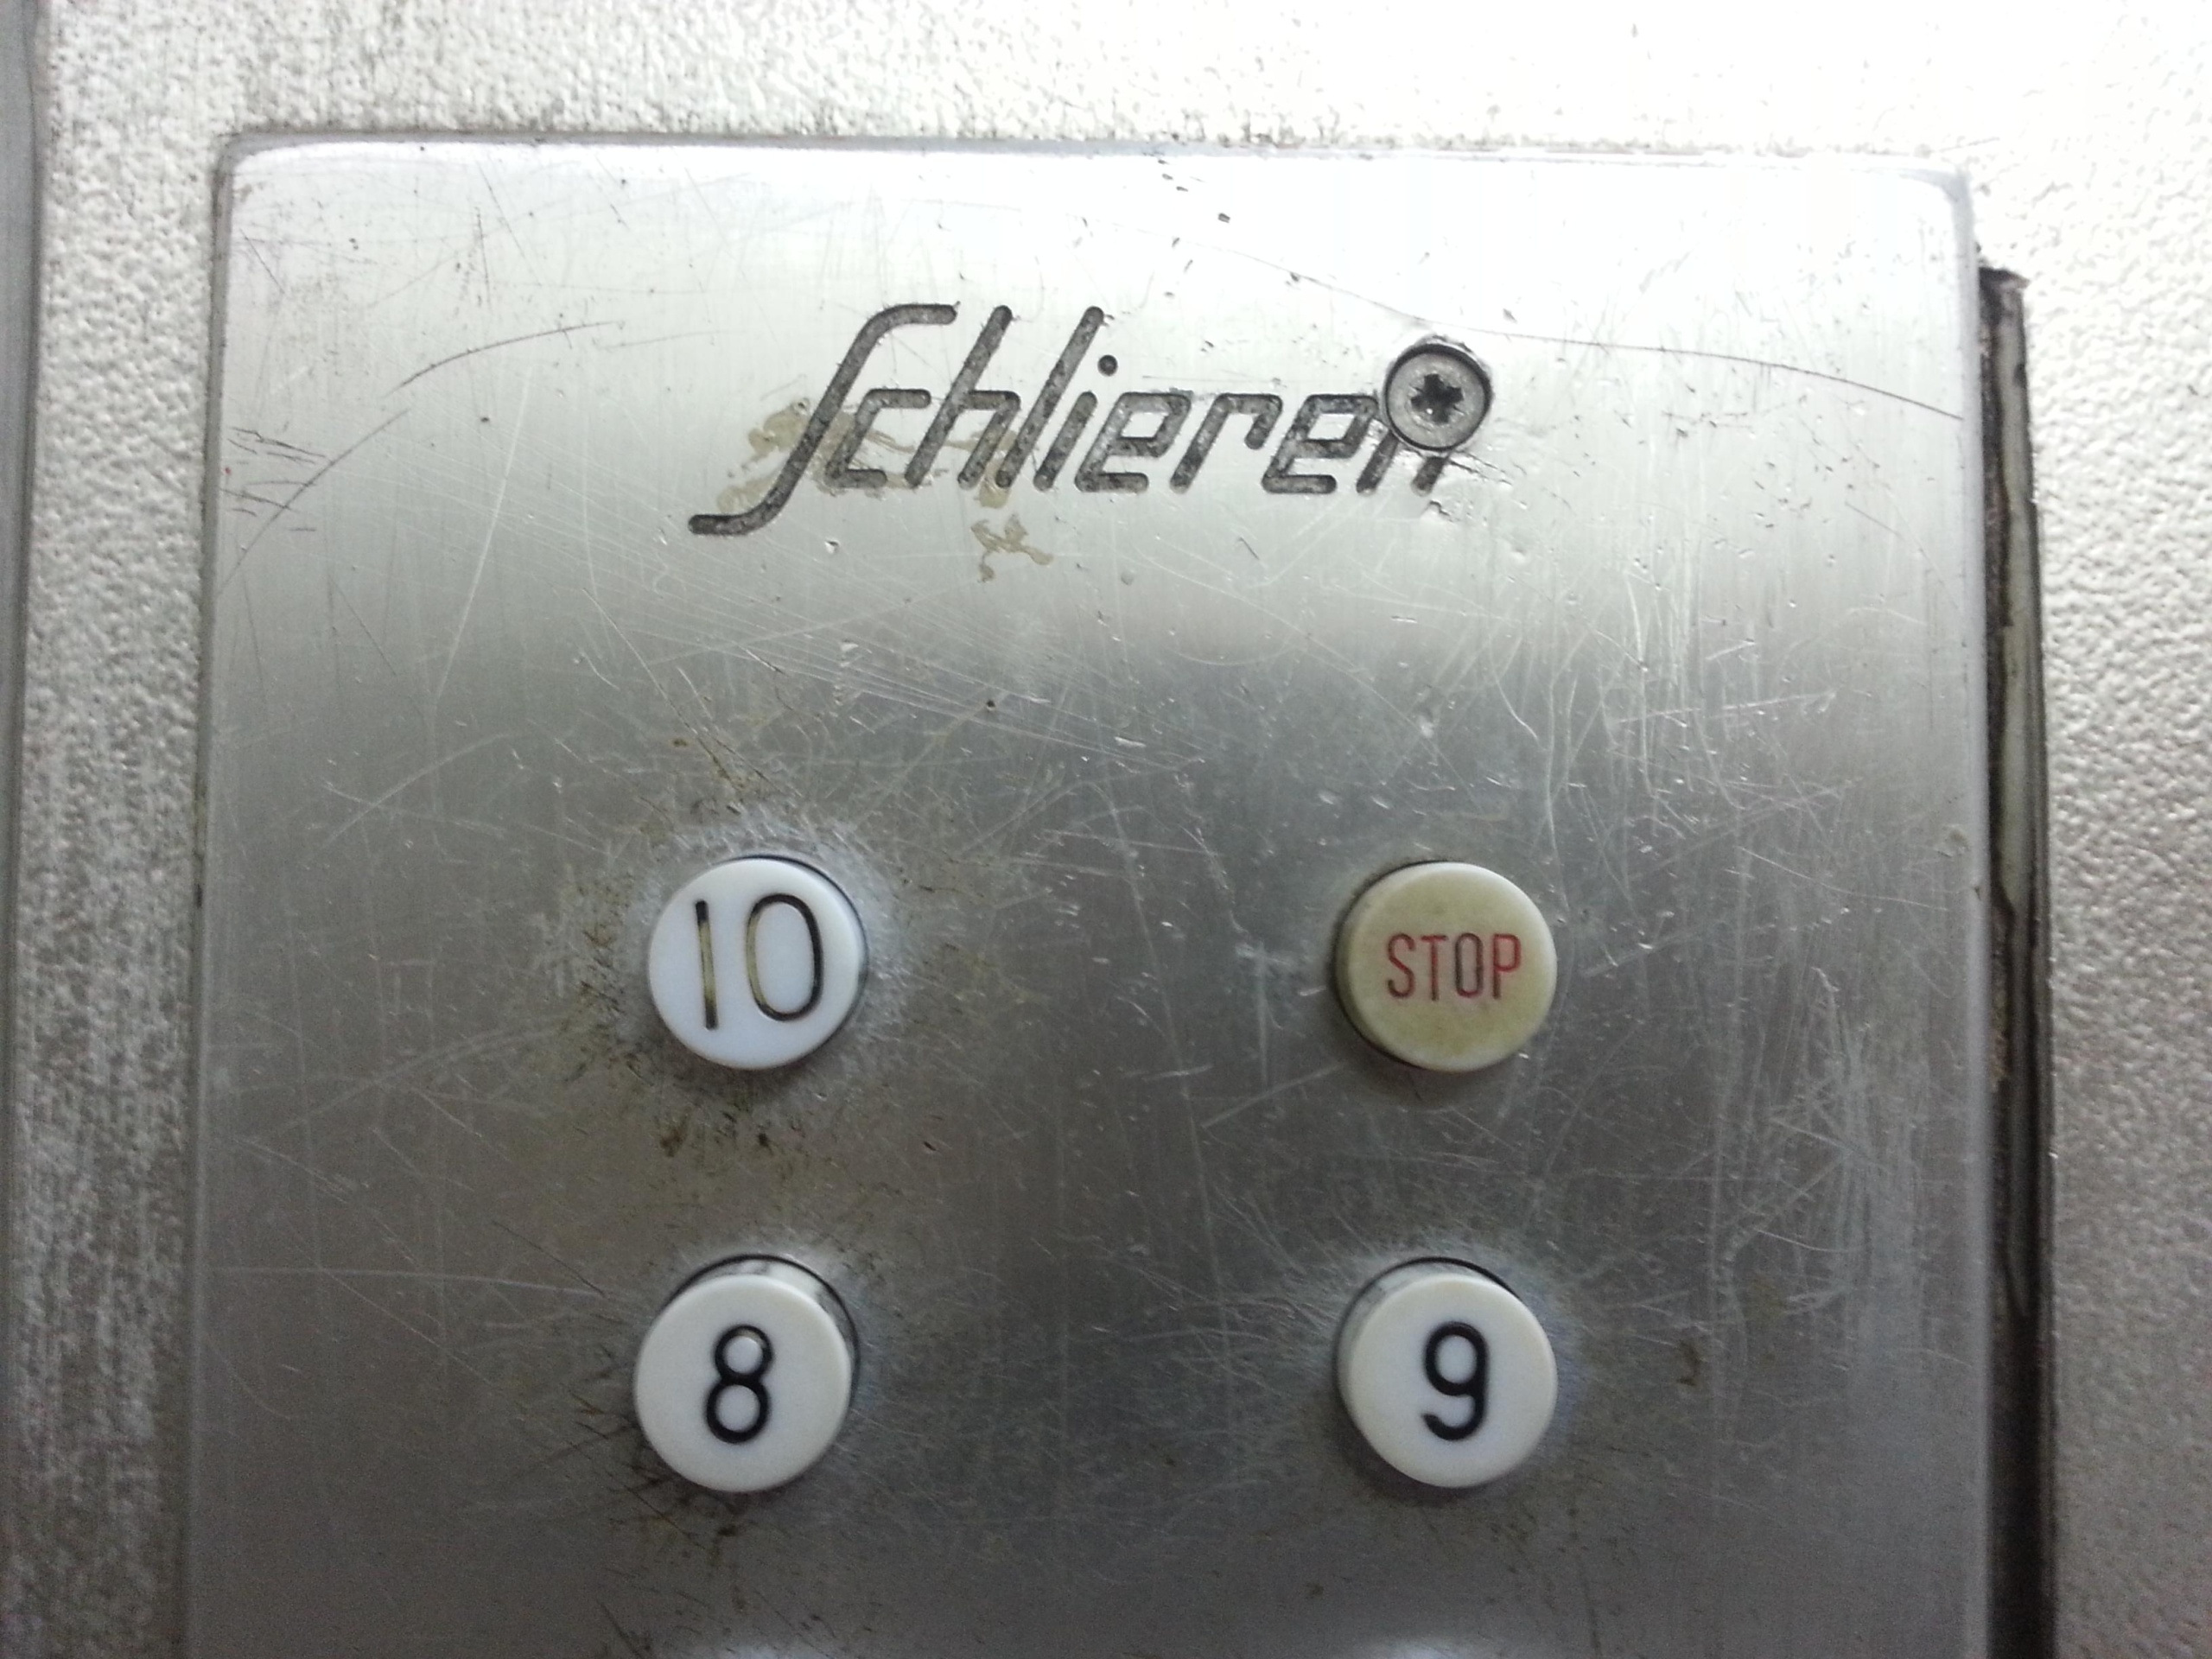10: (636, 845, 874, 1082)
8: (627, 1248, 864, 1502)
9: (1332, 1249, 1568, 1502)
text_stop: (1331, 849, 1561, 1080)
